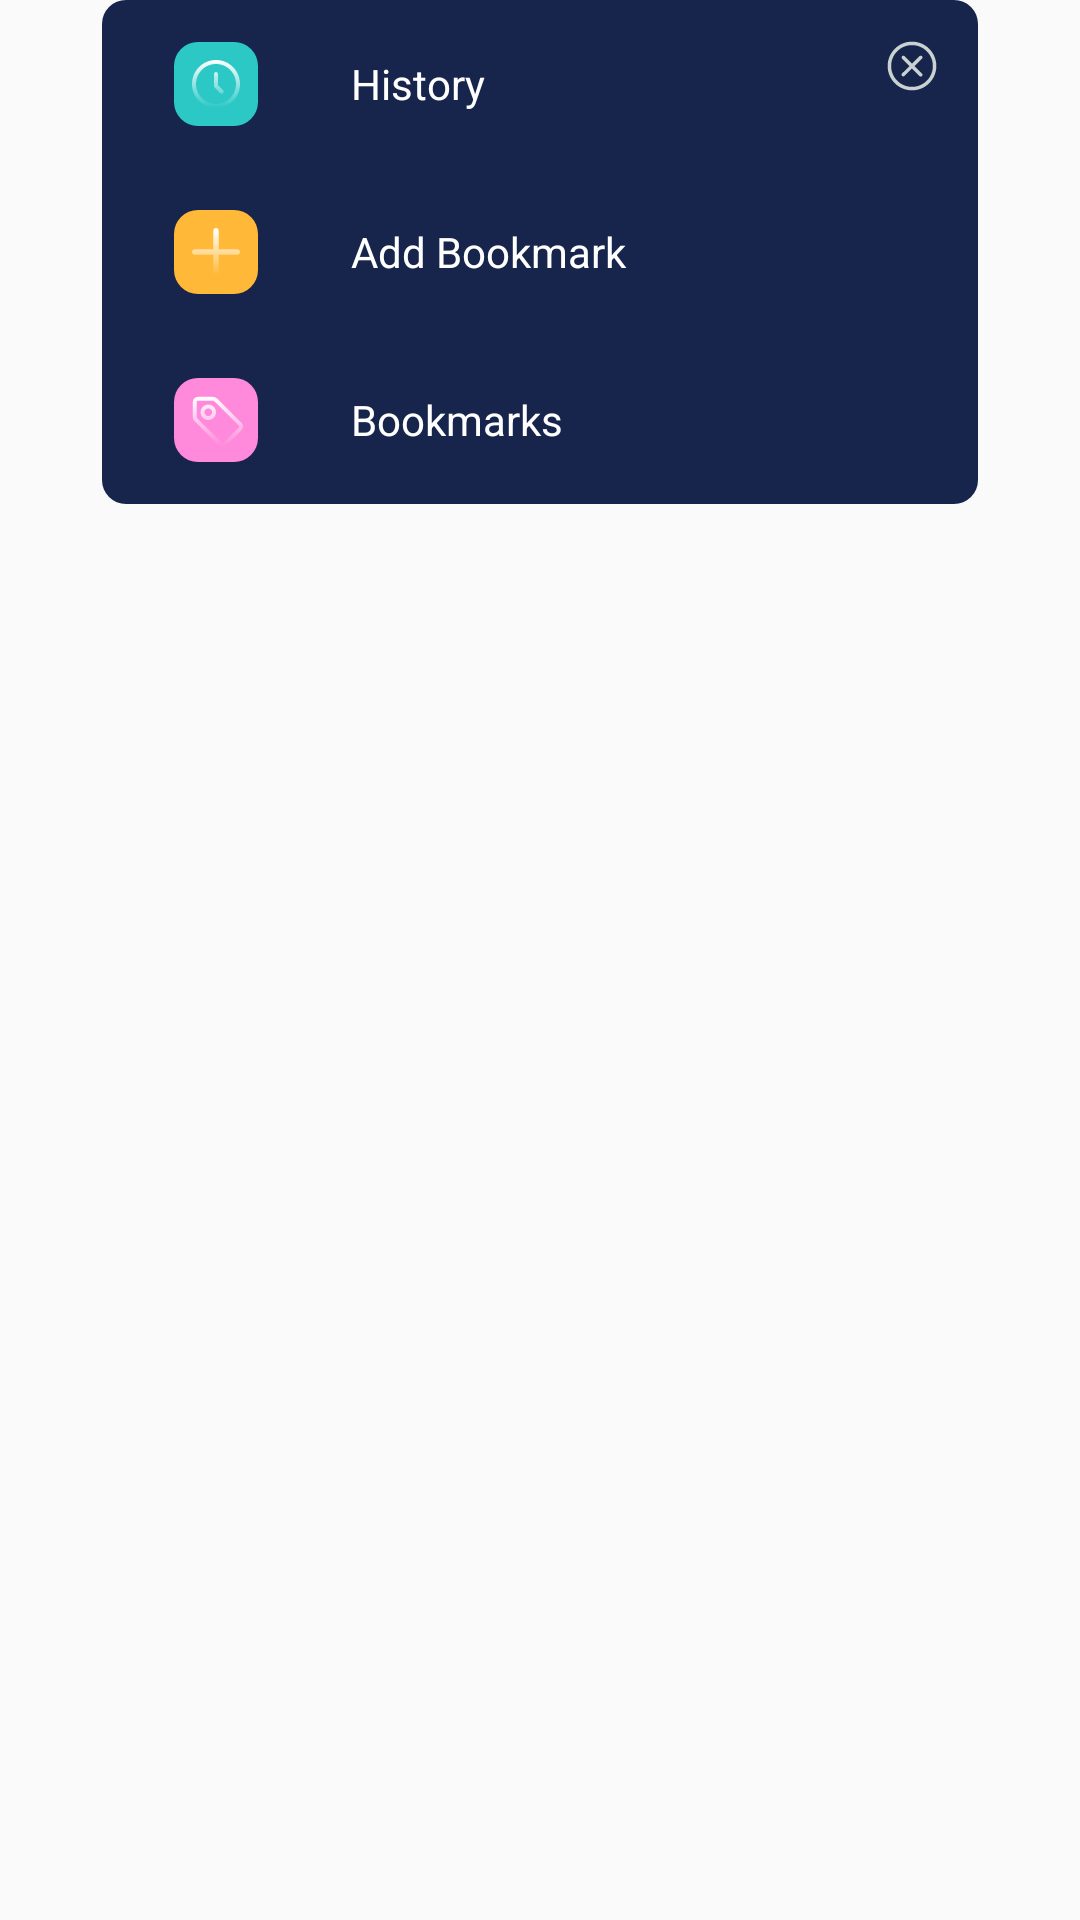

Icons on this 1080 x 1920 Android screen, each with its box as (x1, y1, x2, y2):
close: (887, 41, 937, 91)
